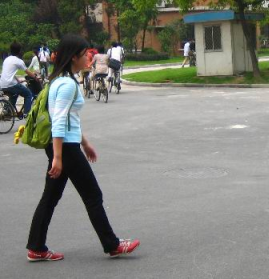person: (27, 37, 114, 274), (3, 40, 27, 91), (108, 37, 127, 96), (92, 45, 113, 77), (27, 48, 42, 72)
